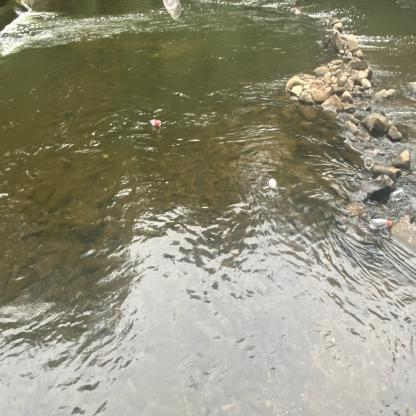trash: (159, 0, 186, 22), (366, 216, 396, 231), (360, 154, 376, 173), (146, 116, 164, 131), (264, 176, 278, 193)
